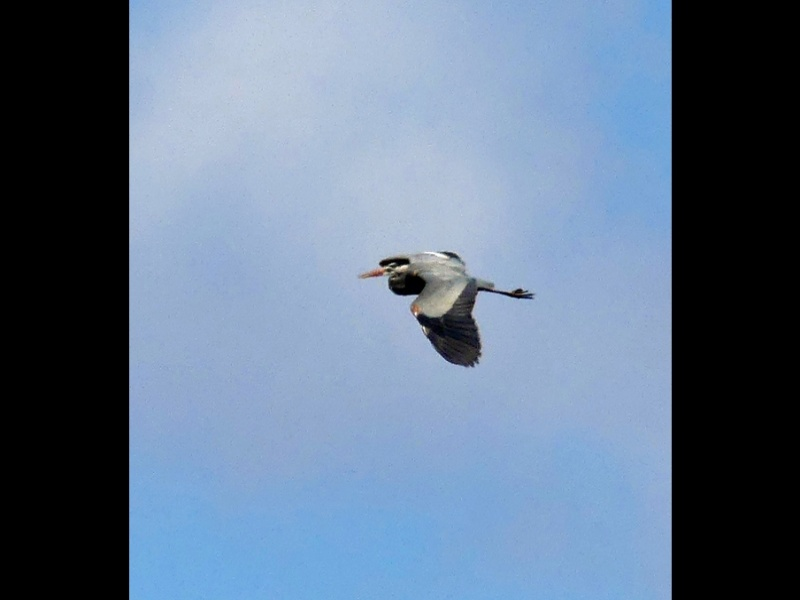heron: (357, 244, 539, 368)
